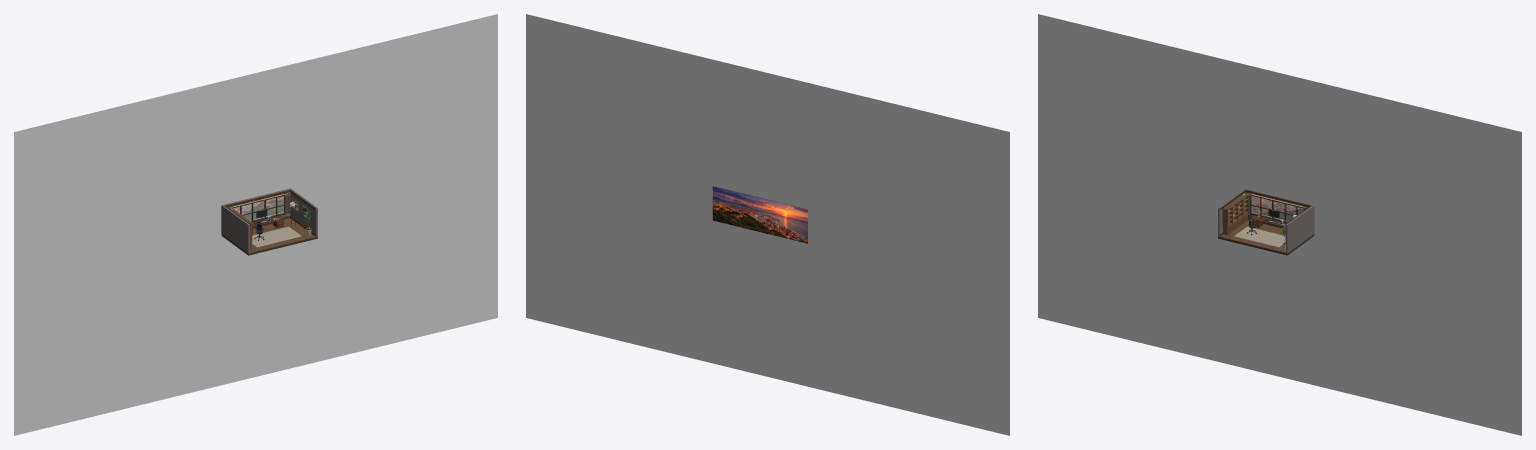
Rendered from room.glb.
3 renders of one model, left to right at view 1: azimuth 30°, elevation 25°; view 2: azimuth 150°, elevation 25°; view 3: azimuth 330°, elevation 25°, orthographic.
Visible parts, largest first — view 1: Window | panorama depth mask, Left wall | cutaway shell, Floor detail | assembly 00, Right wall | cutaway shell, Window | Málaga panorama, Rug | main pile; view 2: Window | panorama depth mask, Window | Málaga panorama; view 3: Window | panorama depth mask, Right wall | cutaway shell, Library detail | assembly 01, Window | Málaga panorama, Floor detail | assembly 00, Rug | main pile.
Part boxes in pixels (x1,y1,x2,y2): Window | panorama depth mask: (14,14,497,435); Left wall | cutaway shell: (221,205,249,253); Floor detail | assembly 00: (250,218,316,252); Right wall | cutaway shell: (290,189,317,236); Window | Málaga panorama: (233,196,283,220); Rug | main pile: (252,226,301,247); Window | panorama depth mask: (526,14,1009,435); Window | Málaga panorama: (712,186,807,243); Window | panorama depth mask: (1038,14,1521,435); Right wall | cutaway shell: (1286,205,1314,253); Library detail | assembly 01: (1222,193,1248,235); Window | Málaga panorama: (1252,196,1303,220); Floor detail | assembly 00: (1219,219,1285,252); Rug | main pile: (1234,226,1285,247).
Bounding box in the file's own units: 50 × 30 × 6.25.
46 materials, 10 textured.
